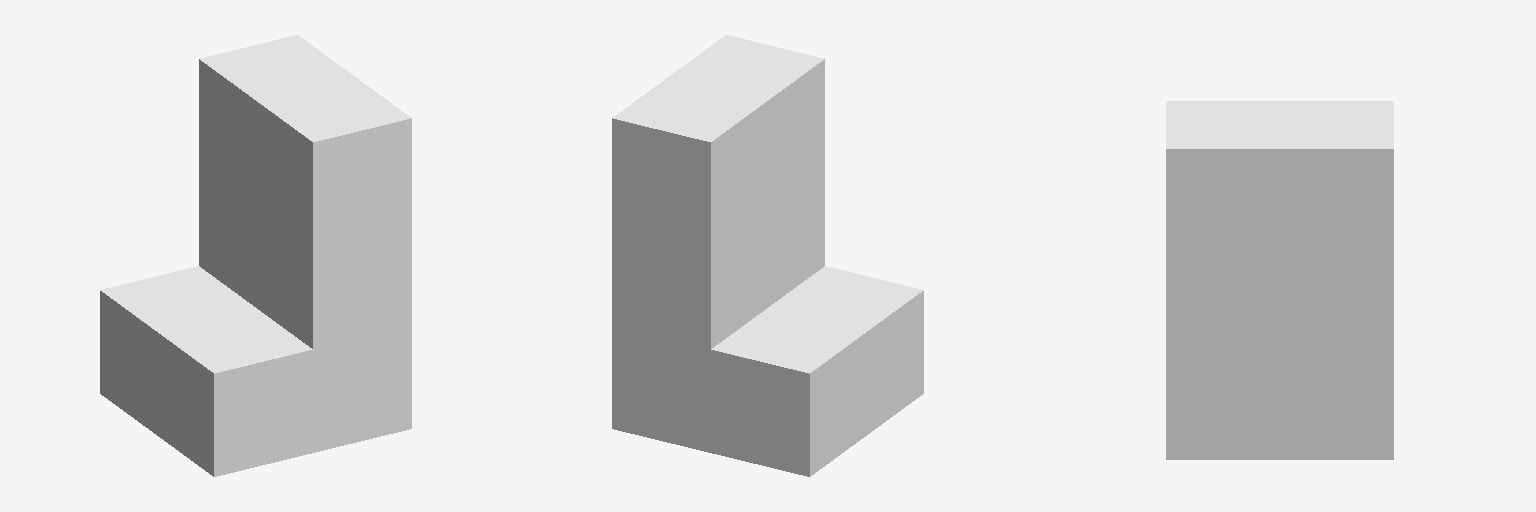
The model's file is mogerco-1.obj.
The picture shows the model from 3 angles: view 1: azimuth 30°, elevation 25°; view 2: azimuth 150°, elevation 25°; view 3: azimuth 270°, elevation 25°; orthographic projection.
Parts seen in each view (by area): view 1: object 1; view 2: object 1; view 3: object 1.
Boxes of the visible parts, x1,y1,x2,y2 form: object 1: [100, 35, 411, 476]; object 1: [612, 35, 923, 476]; object 1: [1166, 101, 1393, 459].
Size of the model in its own units: 0.2 by 0.3 by 0.2.